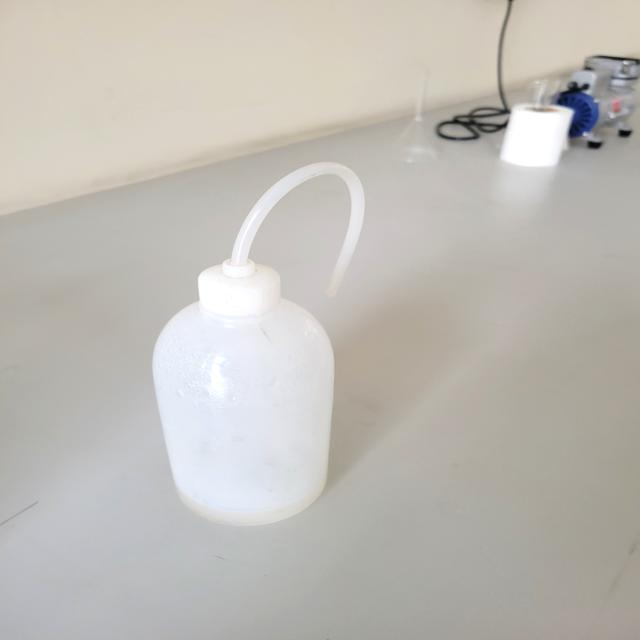Wash_Bottle: (130, 149, 388, 528)
